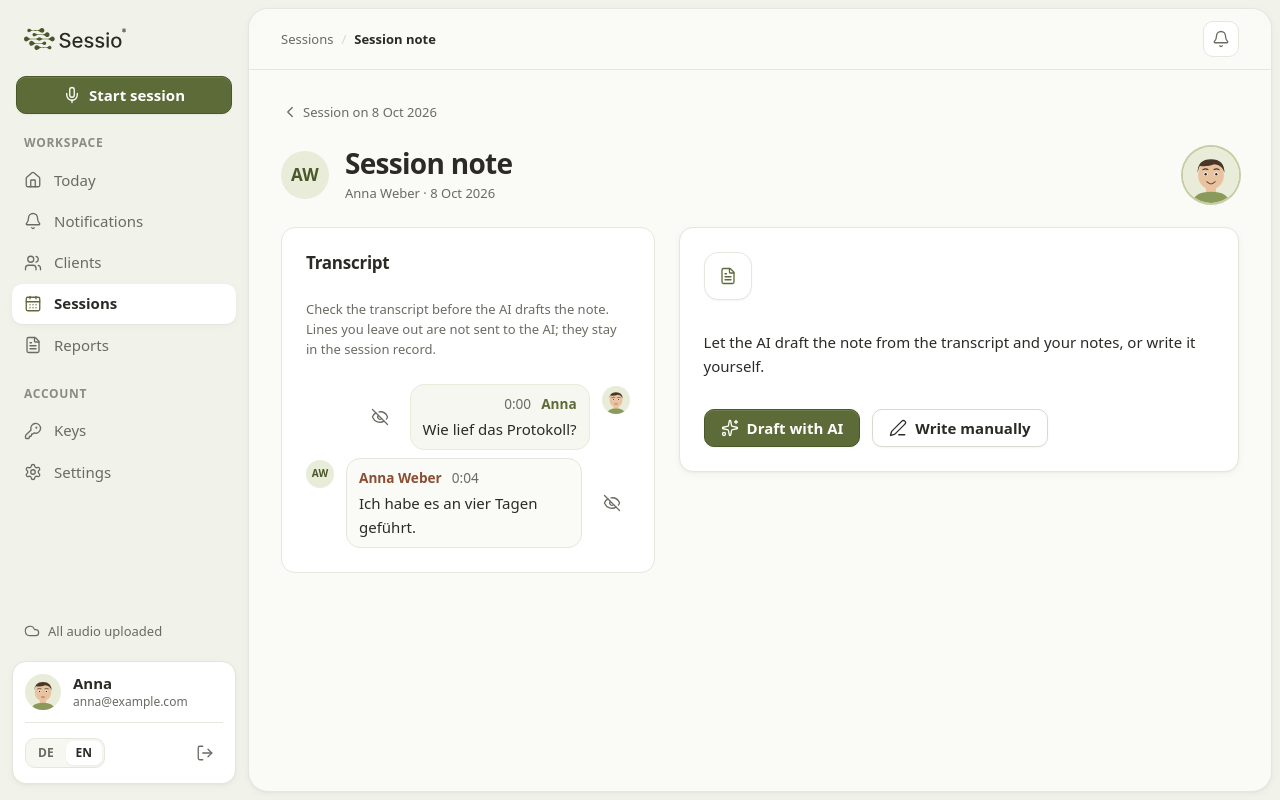
it: session note › offers AI drafting or a manual note before a draft exists
Click the button "Draft with AI": (782, 428) [704, 409, 860, 447]
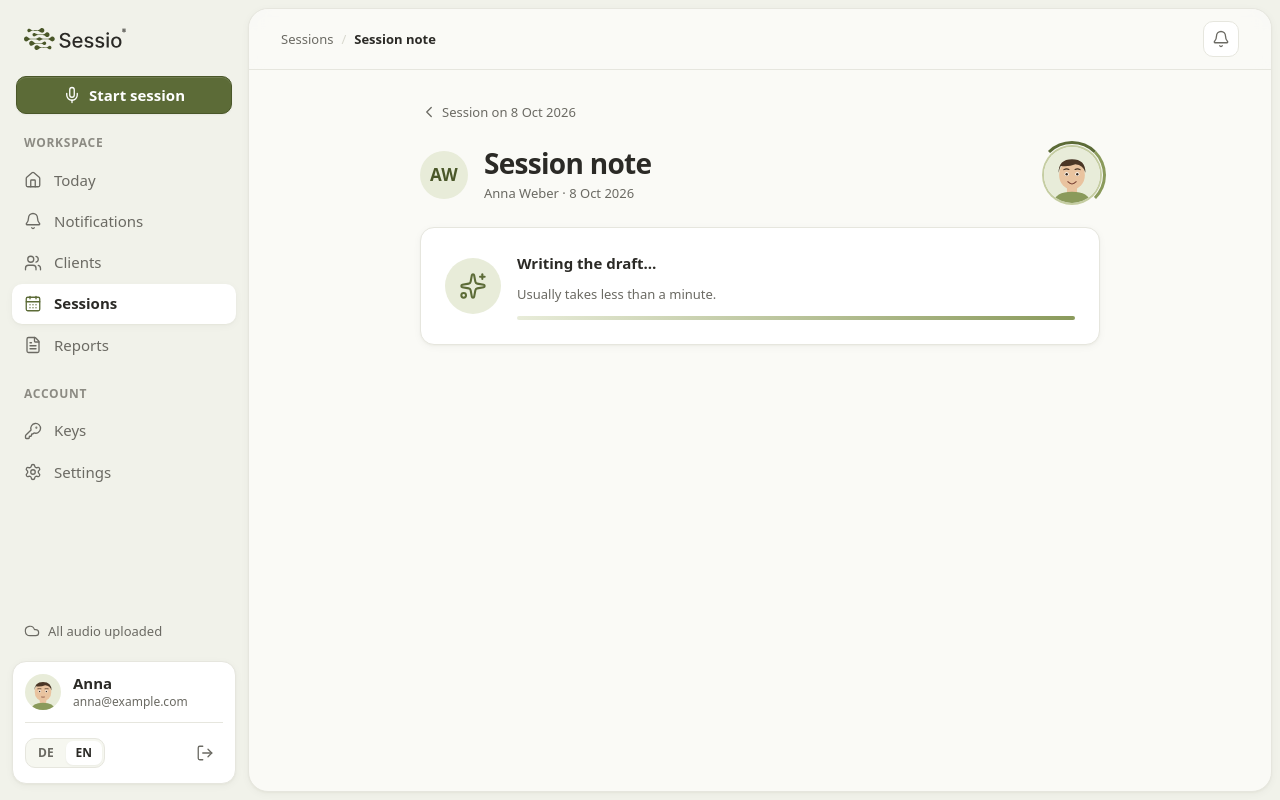
expect the text "Writing the draft…" is shown: met, box [517, 253, 656, 273]
expect the button "Write manually" is gone: met
